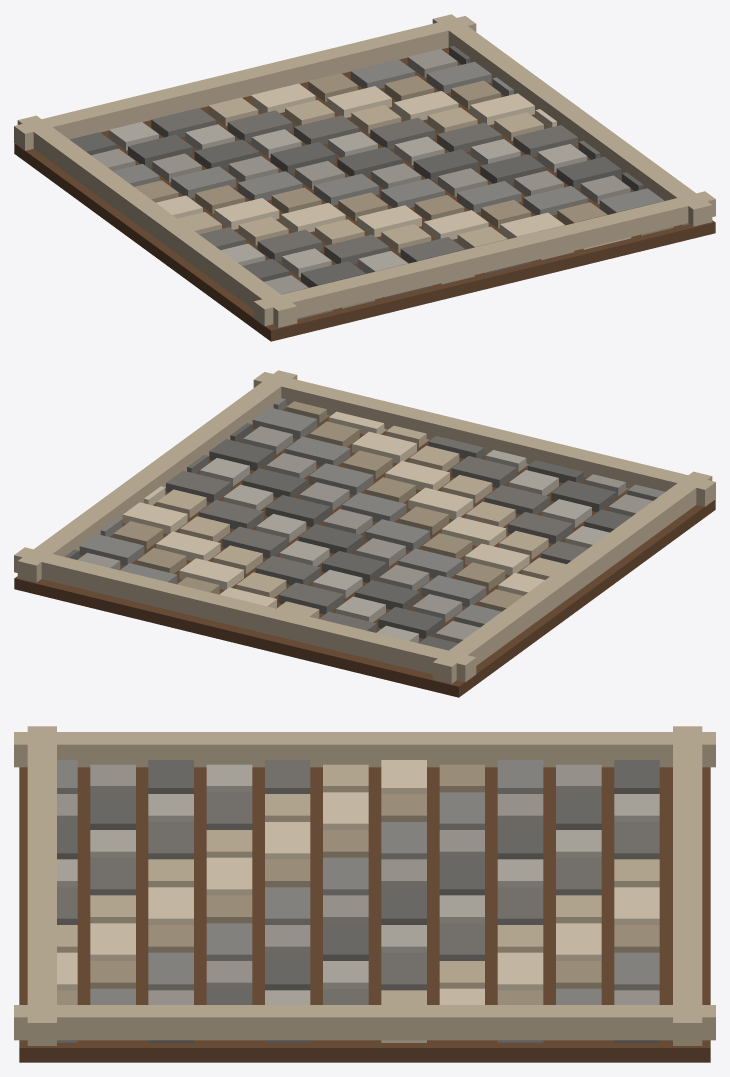
The model's file is vn_path_cobble_2x2.glb.
3 renders of one model, top to bottom at view 1: azimuth 30°, elevation 25°; view 2: azimuth 150°, elevation 25°; view 3: azimuth 270°, elevation 25°, orthographic. The views are drawn at different scales.
Parts seen in each view (by area): view 1: Bed, EdgePZ_0, EdgeNZ_0, EdgeNZ_1, EdgePZ_1, EdgeNX_1, EdgeNX_0, EdgePX_1, EdgePX_0; view 2: Bed, EdgeNZ_0, EdgeNZ_1, EdgePZ_0, EdgePZ_1, EdgeNX_0, EdgeNX_1, EdgePX_0, EdgePX_1; view 3: Bed, EdgePX_0, EdgePX_1, EdgeNX_0, EdgeNX_1, EdgeNZ_1, EdgePZ_1, EdgeNZ_0, EdgePZ_0.
Part boxes in pixels (x1,y1,x2,y2): Bed: [14, 45, 715, 341]; EdgePZ_0: [253, 244, 498, 326]; EdgeNZ_0: [14, 69, 259, 150]; EdgeNZ_1: [232, 16, 476, 97]; EdgePZ_1: [472, 191, 715, 268]; EdgeNX_1: [143, 207, 297, 327]; EdgeNX_0: [17, 115, 170, 235]; EdgePX_1: [558, 108, 712, 226]; EdgePX_0: [432, 14, 586, 128]; Bed: [14, 398, 715, 697]; EdgeNZ_0: [231, 600, 476, 682]; EdgeNZ_1: [14, 547, 257, 626]; EdgePZ_0: [470, 425, 715, 506]; EdgePZ_1: [253, 372, 496, 453]; EdgeNX_0: [432, 563, 586, 683]; EdgeNX_1: [566, 471, 712, 590]; EdgePX_0: [17, 463, 171, 582]; EdgePX_1: [143, 370, 297, 479]; Bed: [19, 760, 710, 1062]; EdgePX_0: [351, 1005, 715, 1040]; EdgePX_1: [14, 1005, 378, 1040]; EdgeNX_0: [351, 732, 715, 767]; EdgeNX_1: [14, 732, 378, 767]; EdgeNZ_1: [673, 880, 702, 1045]; EdgePZ_1: [27, 880, 56, 1045]; EdgeNZ_0: [673, 726, 702, 880]; EdgePZ_0: [27, 726, 56, 880].
Size of the model in its own units: 1.39 by 0.091 by 1.39.
